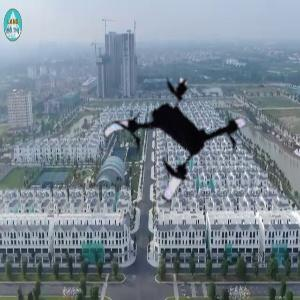drone: (101, 69, 248, 216)
